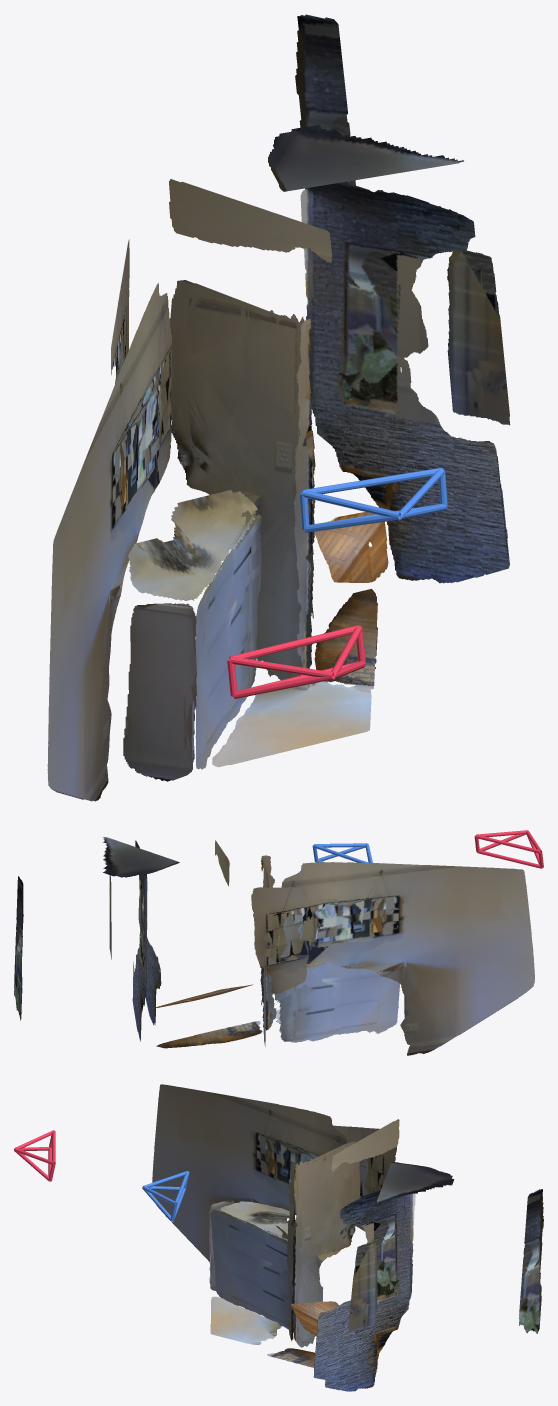
File: pred.glb
3 views of the same model, one above another, from view 1: azimuth 30°, elevation 25°; view 2: azimuth 150°, elevation 25°; view 3: azimuth 270°, elevation 25° (orthographic). The views are drawn at different scales.
Parts seen in each view (by area): view 1: Node; view 2: Node; view 3: Node.
Part boxes in pixels (left/top/right/bottom): Node: left=47, top=14, right=510, bottom=801; Node: left=14, top=830, right=543, bottom=1055; Node: left=14, top=1084, right=543, bottom=1391.
Size of the model in its own units: 4.24 by 2.67 by 5.67.
21 materials, 19 textured.
